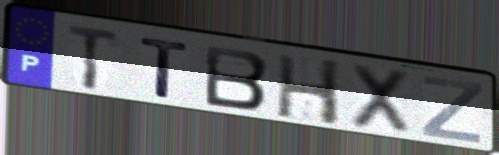B: (202, 42, 272, 112)
H: (274, 53, 344, 129)
T: (65, 22, 122, 93), (138, 35, 194, 102)
X: (346, 61, 413, 139)
Z: (419, 74, 485, 146)
